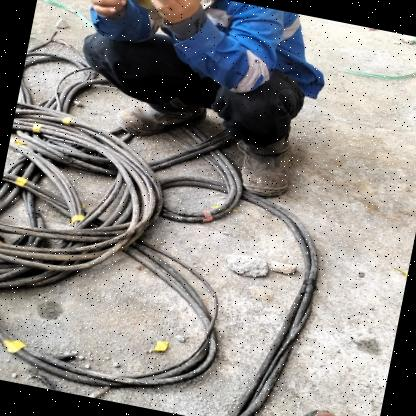bota: (222, 125, 308, 200), (112, 88, 212, 146)
